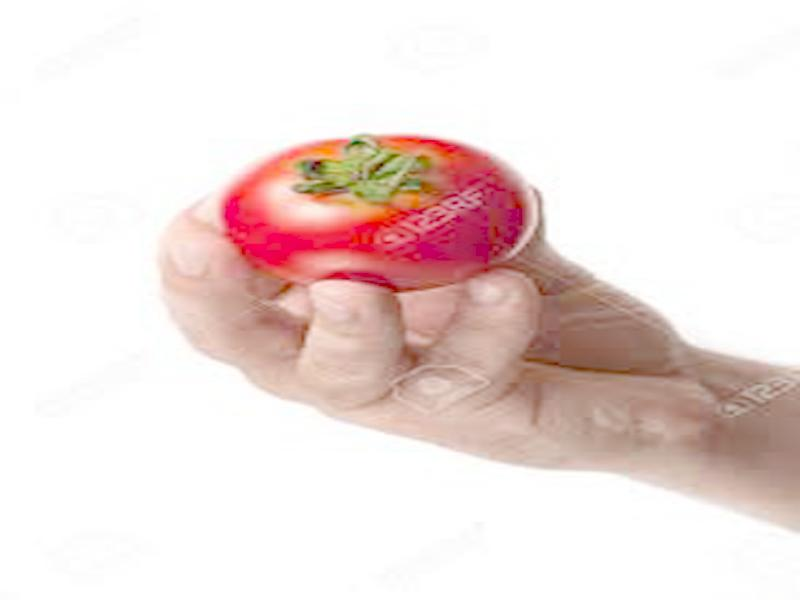Tomato: (219, 133, 533, 289)
